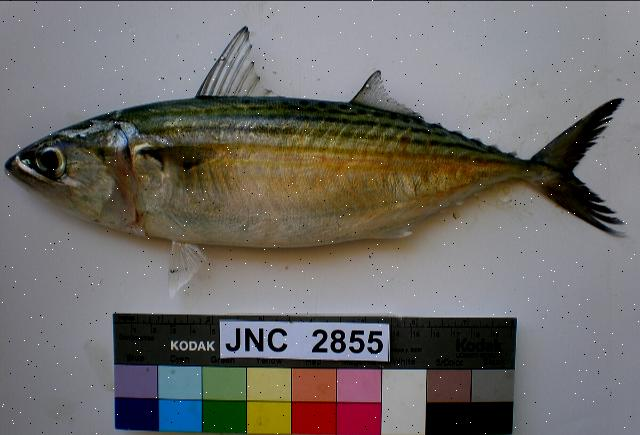Mulut: (0, 137, 54, 197)
Sirip Anal: (352, 165, 498, 255)
Sirip Dada: (137, 129, 236, 189)
Sirip Ekor: (530, 85, 630, 250)
Sirip Perut: (155, 230, 213, 310)
Sirip Punggung: (190, 18, 432, 130)
